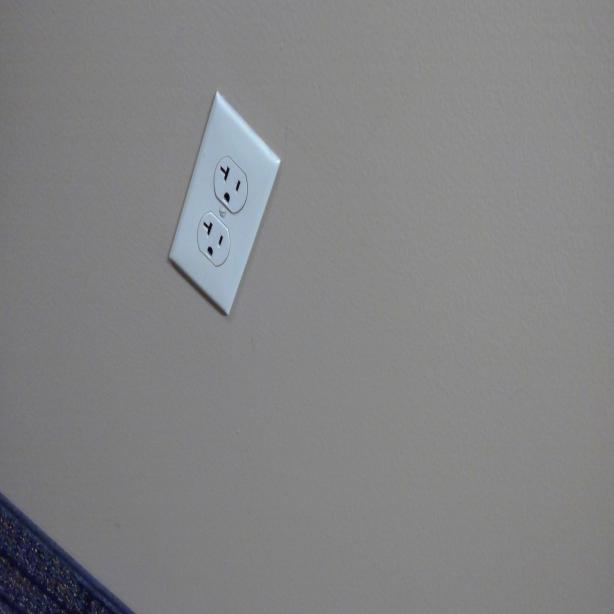typeb: (218, 160, 244, 207), (203, 218, 228, 266)
